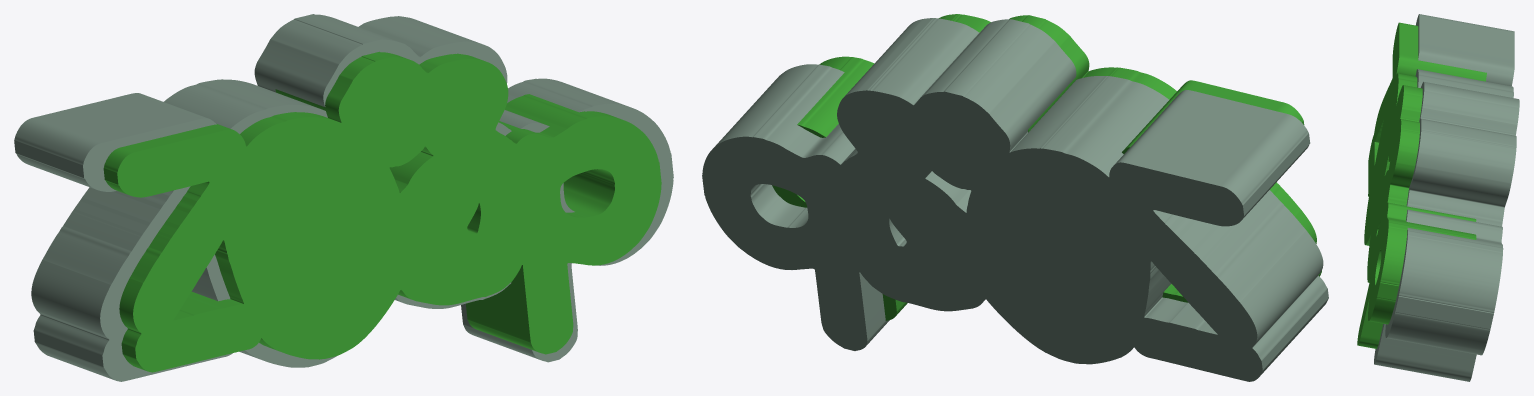
The model's file is zoop.glb.
The picture shows the model from 3 angles, left to right: view 1: azimuth 30°, elevation 25°; view 2: azimuth 150°, elevation 25°; view 3: azimuth 270°, elevation 25°; orthographic projection. The views are drawn at different scales.
Parts seen in each view (by area): view 1: Curve.001, Curve; view 2: Curve, Curve.001; view 3: Curve, Curve.001.
Part boxes in pixels (<box>): Curve.001: <box>103,51,661,372</box>; Curve: <box>14,14,673,381</box>; Curve: <box>702,18,1328,381</box>; Curve.001: <box>772,14,1321,320</box>; Curve: <box>1374,14,1519,381</box>; Curve.001: <box>1357,22,1486,348</box>.
Bounding box in the file's own units: 3.17 × 1.86 × 1.12.
